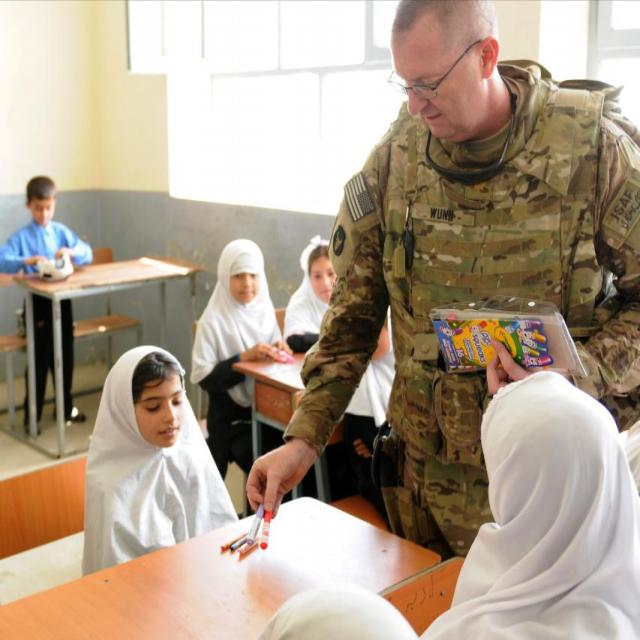desk: (0, 243, 192, 379)
person: (238, 5, 638, 582), (81, 345, 242, 576), (190, 238, 291, 494), (0, 174, 95, 433), (283, 237, 335, 353)
